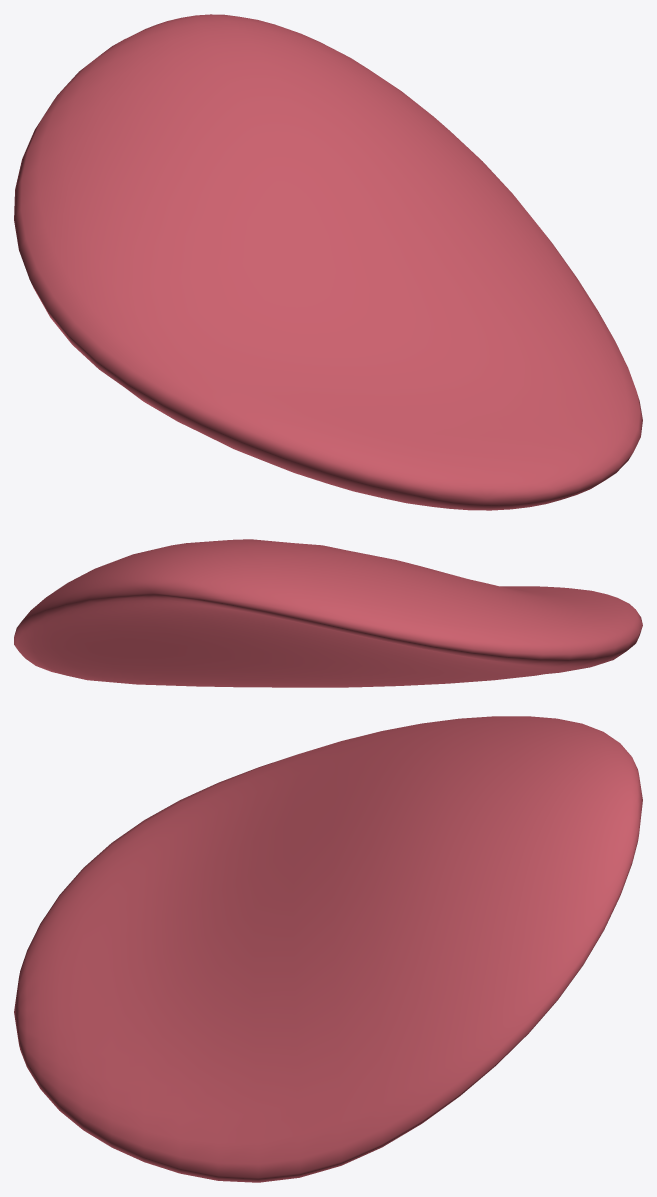
3 renders of one model, top to bottom at view 1: azimuth 30°, elevation 25°; view 2: azimuth 150°, elevation 25°; view 3: azimuth 270°, elevation 25°, orthographic. The views are drawn at different scales.
Visible parts, largest first — view 1: 右侧肱三头肌腱下囊; view 2: 右侧肱三头肌腱下囊; view 3: 右侧肱三头肌腱下囊.
Part boxes in pixels (x1,y1,x2,y2): 右侧肱三头肌腱下囊: [14, 14, 642, 510]; 右侧肱三头肌腱下囊: [14, 539, 642, 687]; 右侧肱三头肌腱下囊: [14, 716, 642, 1182].
Size of the model in its own units: 0.0444 by 0.024 by 0.0445.
